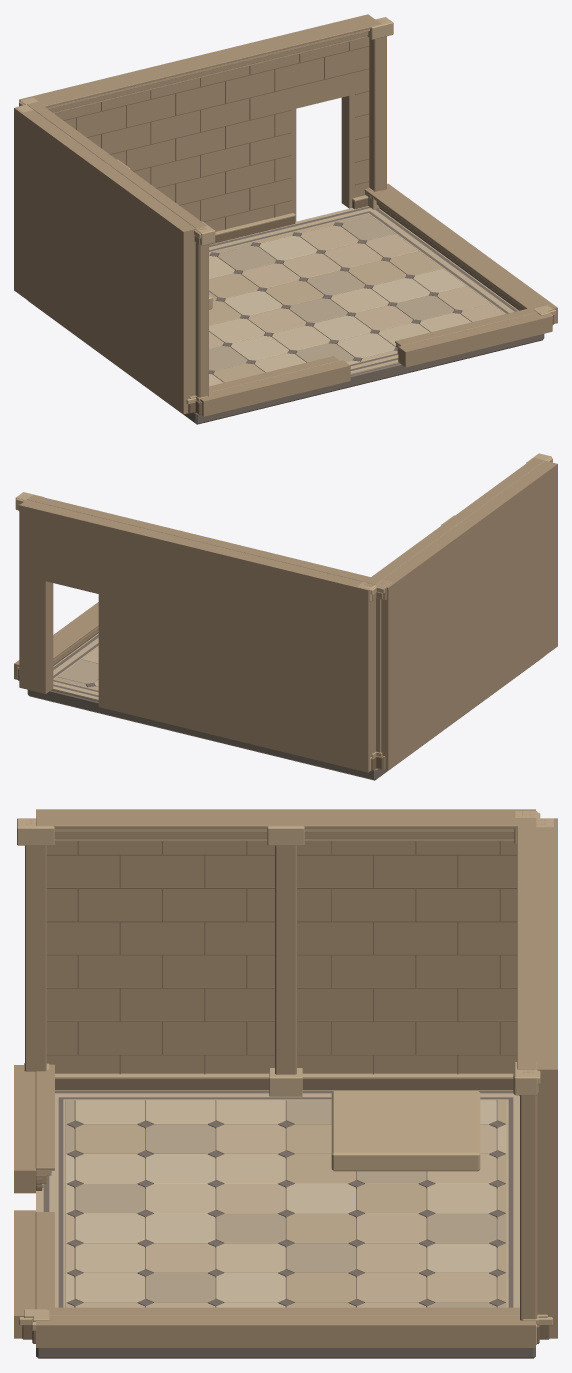
The model's file is b2_control_architecture.glb.
3 views of the same model, one above another, from view 1: azimuth 30°, elevation 25°; view 2: azimuth 150°, elevation 25°; view 3: azimuth 270°, elevation 25° (orthographic). The views are drawn at different scales.
Visible parts, largest first — view 1: b2_control_left_Wall_Solid_00, b2_control_rear_Wall_Solid_00, b2_control_Floor, b2_control_front_Cutedge_Solid_00, b2_control_Floor_Foundation, b2_control_rear_Wall_Cornice_00_3_0, b2_control_rear_Masonry_Real_joint_mesh, Pier_001, b2_control_right_Cutedge_Solid_00, b2_control_right_Cutedge_Cornice_00_3_0, b2_control_left_Wall_Cornice_00_3_0, Pier_002 (+9 smaller); view 2: b2_control_rear_Wall_Solid_00, b2_control_left_Wall_Solid_00, b2_control_Floor_Foundation, b2_control_rear_Wall_Cornice_00_3_0, b2_control_Floor, b2_control_left_Wall_Cornice_00_3_0, Pilaster_Shaft, b2_control_right_Cutedge_Solid_00, Pilaster_Shaft_003, b2_control_right_Cutedge_Cornice_00_3_0; view 3: b2_control_left_Wall_Solid_00, b2_control_Floor, b2_control_right_Cutedge_Solid_00, b2_control_Reactor_dais, b2_control_rear_Wall_Solid_00, b2_control_left_Masonry_Real_joint_mesh, b2_control_Floor_Foundation, b2_control_left_Wall_Cornice_00_3_0, b2_control_front_Cutedge_Solid_00, b2_control_left_Wall_Skirting_00_0, Pier_003, Pier_002 (+15 smaller).
Boxes of the visible parts, x1,y1,x2,y2 form: b2_control_left_Wall_Solid_00: (14,107,195,414); b2_control_rear_Wall_Solid_00: (19,14,374,231); b2_control_Floor: (209,206,518,386); b2_control_front_Cutedge_Solid_00: (200,313,552,416); b2_control_Floor_Foundation: (28,301,544,424); b2_control_rear_Wall_Cornice_00_3_0: (31,19,381,107); b2_control_rear_Masonry_Real_joint_mesh: (63,42,369,229); Pier_001: (369,19,386,191); b2_control_right_Cutedge_Solid_00: (381,183,557,323); b2_control_right_Cutedge_Cornice_00_3_0: (364,188,537,308); b2_control_left_Wall_Cornice_00_3_0: (27,103,206,228); Pier_002: (197,227,208,397); b2_control_rear_Wall_Solid_00: (19,500,373,772); b2_control_left_Wall_Solid_00: (376,461,557,770); b2_control_Floor_Foundation: (27,657,542,780); b2_control_rear_Wall_Cornice_00_3_0: (27,495,380,584); b2_control_Floor: (52,633,98,700); b2_control_left_Wall_Cornice_00_3_0: (365,458,544,584); Pilaster_Shaft: (376,598,380,752); b2_control_right_Cutedge_Solid_00: (14,602,98,679); Pilaster_Shaft_003: (372,598,375,753); b2_control_right_Cutedge_Cornice_00_3_0: (53,614,98,659); b2_control_left_Wall_Solid_00: (36,809,535,1073); b2_control_Floor: (36,1090,519,1307); b2_control_right_Cutedge_Solid_00: (36,1316,535,1347); b2_control_Reactor_dais: (331,1091,480,1171); b2_control_rear_Wall_Solid_00: (536,818,557,1338); b2_control_left_Masonry_Real_joint_mesh: (46,841,516,1074); b2_control_Floor_Foundation: (36,1348,535,1358); b2_control_left_Wall_Cornice_00_3_0: (36,818,535,828); b2_control_front_Cutedge_Solid_00: (14,1065,35,1338); b2_control_left_Wall_Skirting_00_0: (55,1079,513,1090); Pier_003: (275,845,296,1074); Pier_002: (25,819,46,1071).
Size of the model in its own units: 8.16 by 4.11 by 6.96.
